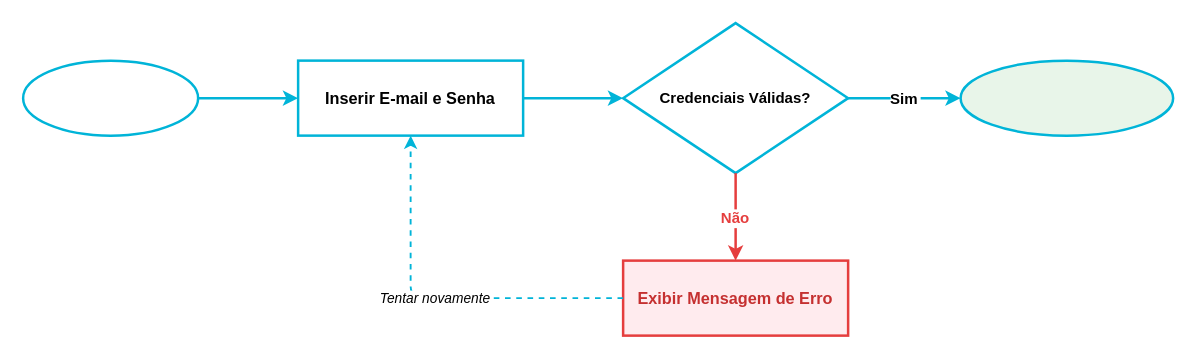
The diagram is 1195 pixels wide and 358 high, and some of its shapes have lost their labels. Here are the shapes that lost their labels. From the top down, the centre of each, then its label:
the point at 110,97: Início
the point at 1066,97: Acessar Dashboard
